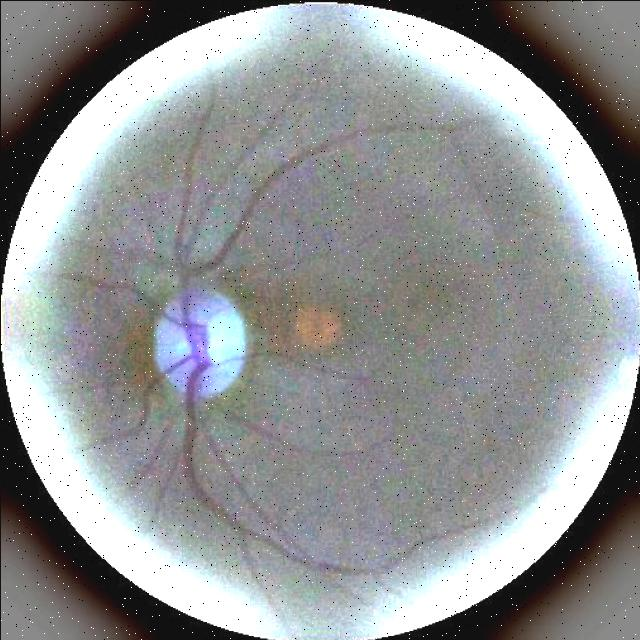Macula: (295, 306, 339, 349)
Nerves: (169, 86, 462, 581)
Optic Disk: (154, 292, 244, 402)
